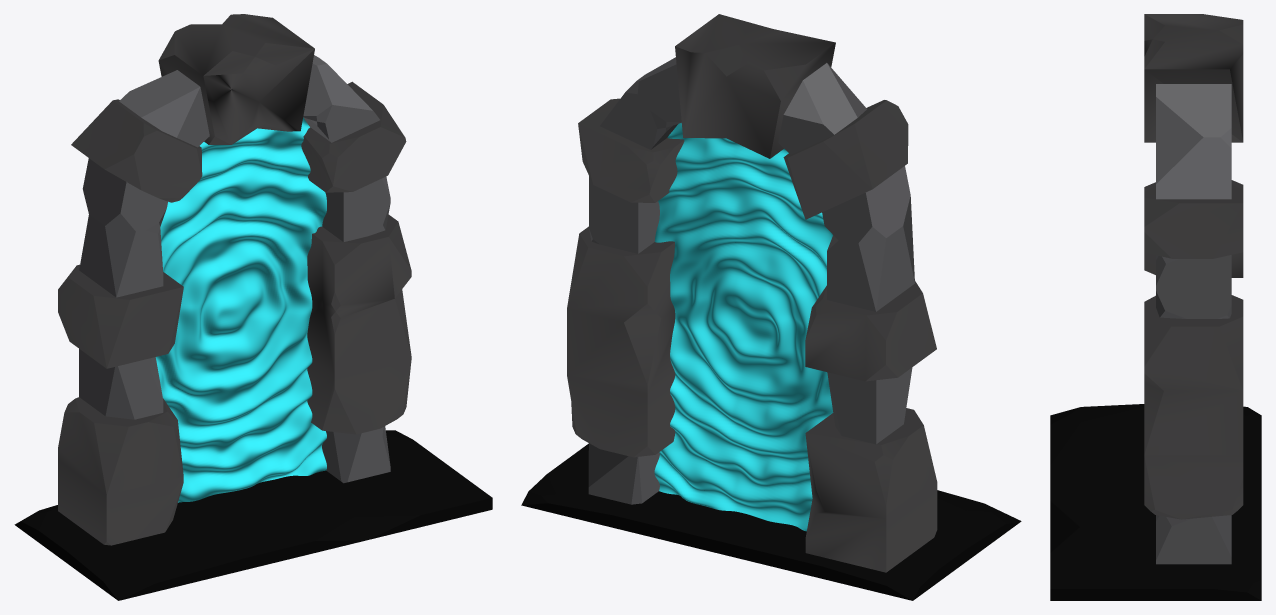
Rendered from portal.fbx.
The picture shows the model from 3 angles, left to right: view 1: azimuth 30°, elevation 25°; view 2: azimuth 150°, elevation 25°; view 3: azimuth 270°, elevation 25°; orthographic projection. The views are drawn at different scales.
Parts seen in each view (by area): view 1: Plane.003; view 2: Plane.003; view 3: Plane.003.
Part boxes in pixels (x1=…): Plane.003: x1=14, y1=14, x2=492, y2=600; Plane.003: x1=521, y1=14, x2=1021, y2=600; Plane.003: x1=1050, y1=14, x2=1261, y2=600.
Size of the model in its own units: 415 by 499 by 200.
